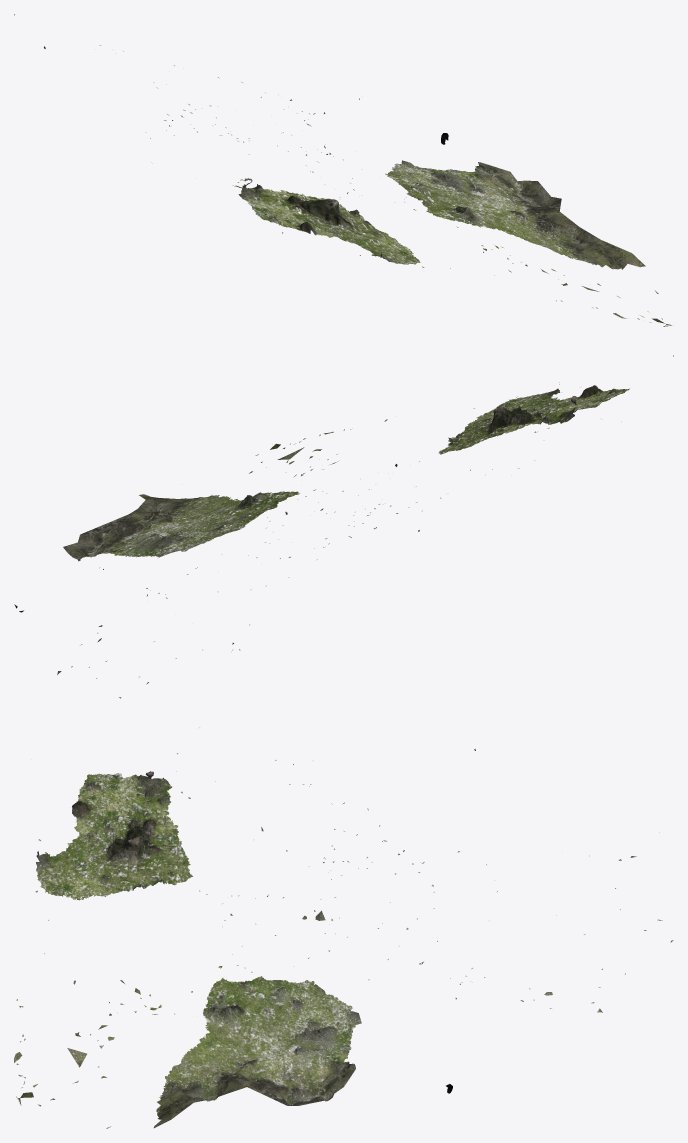
3 renders of one model, top to bottom at view 1: azimuth 30°, elevation 25°; view 2: azimuth 150°, elevation 25°; view 3: azimuth 270°, elevation 25°, orthographic. The views are drawn at different scales.
Size of the model in its own units: 62.14 by 26.07 by 80.83.
1 material, 1 textured.
